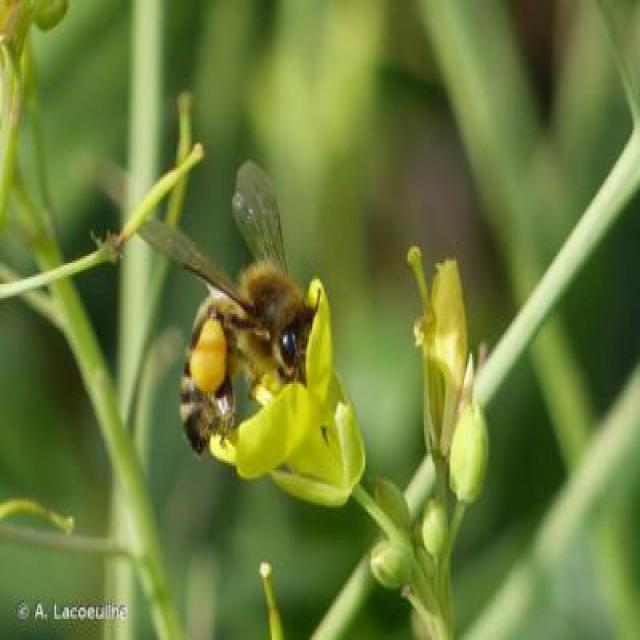antennae: (313, 286, 322, 321)
body: (181, 256, 322, 455)
insect: (130, 150, 326, 457)
mouthpart: (290, 365, 308, 388)
wings: (135, 216, 258, 316), (232, 160, 290, 287)
